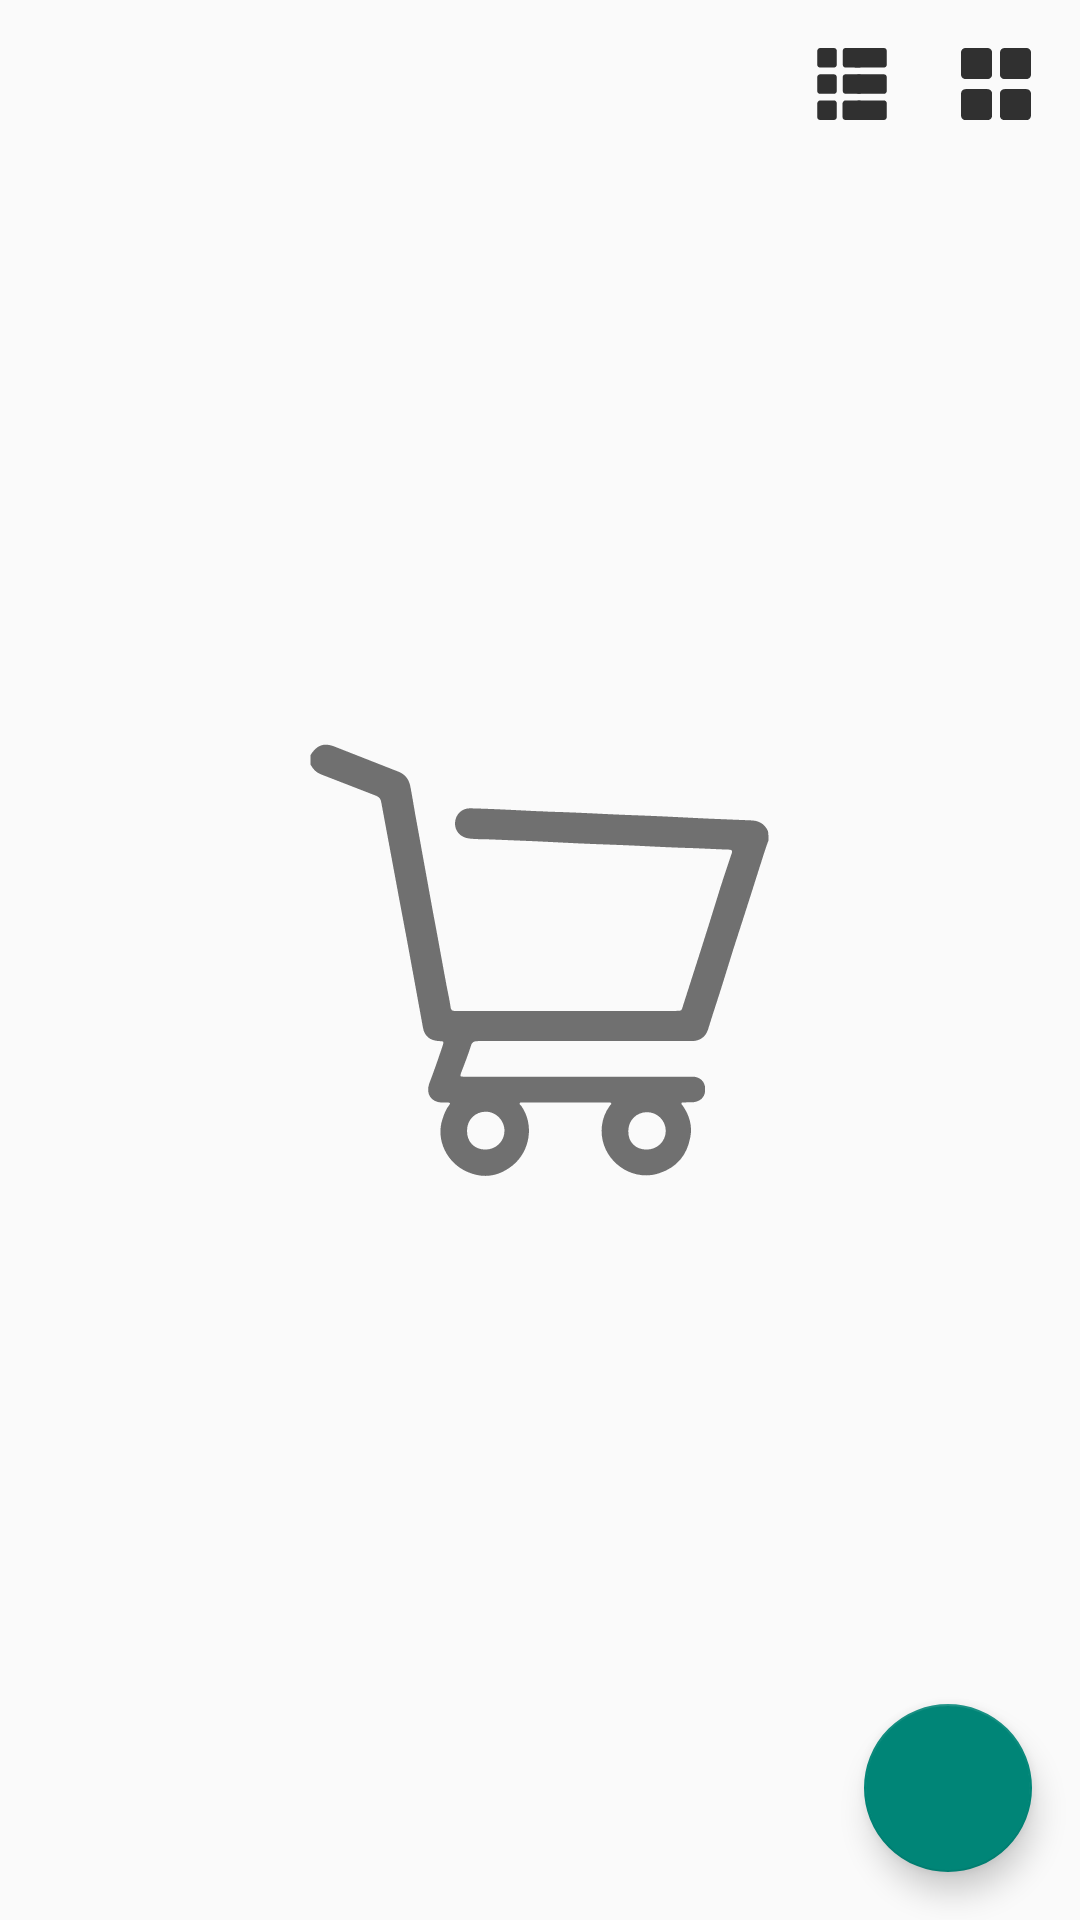

Screen size 1080×1920. Icon name, then its box in pixels as region(x1, y1, x2, y2):
grid view: region(961, 48, 1031, 120)
list view: region(817, 48, 887, 120)
